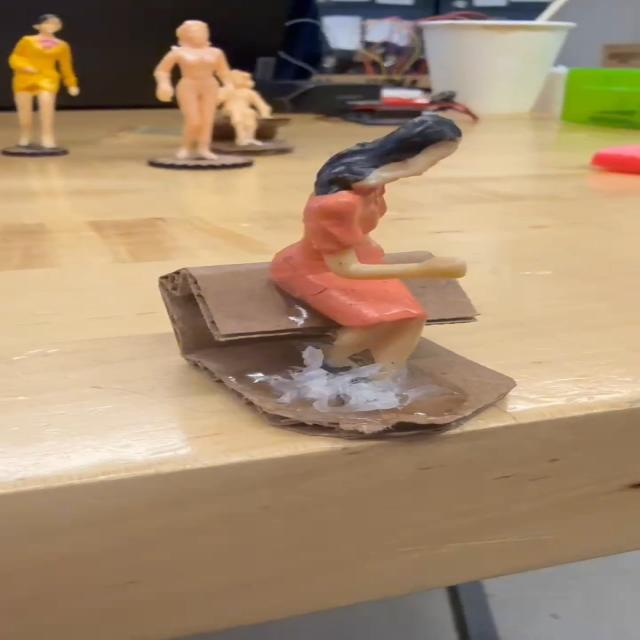Authorized: (187, 87, 549, 460)
